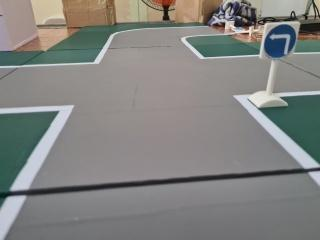left: (262, 21, 299, 61)
